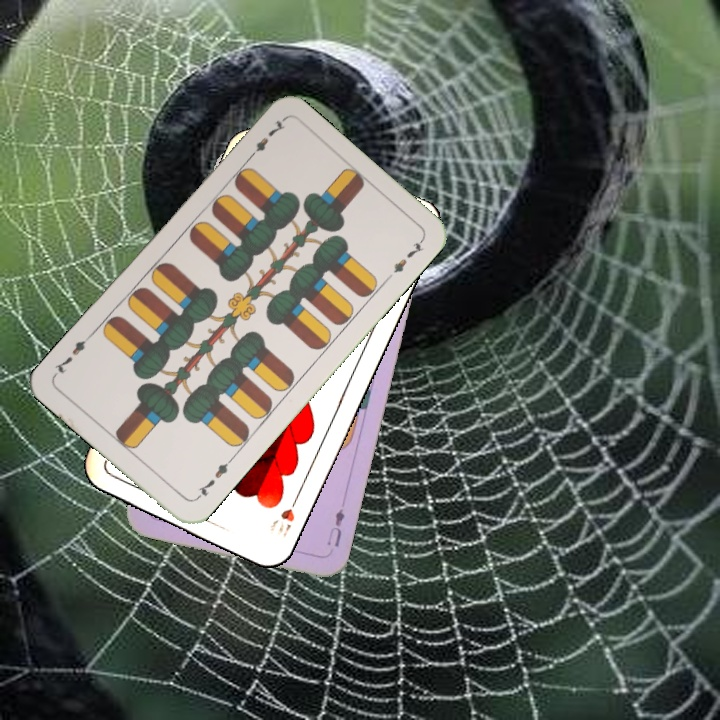E7: (243, 115, 289, 164), (191, 455, 235, 503)
EU: (322, 504, 348, 550)
H10: (265, 489, 303, 540)
